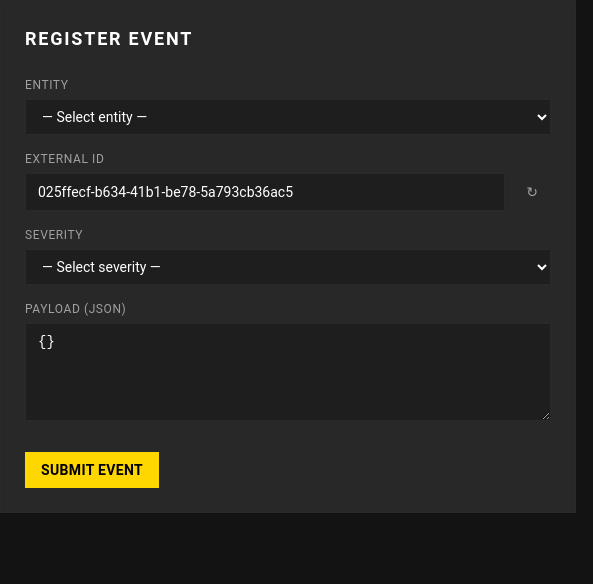
Test: EventForm › shows suspension error on 422 entity_suspended
Select "Death Star" in the dropdown labelled "Entity" at (288, 117), box [25,99,551,135]
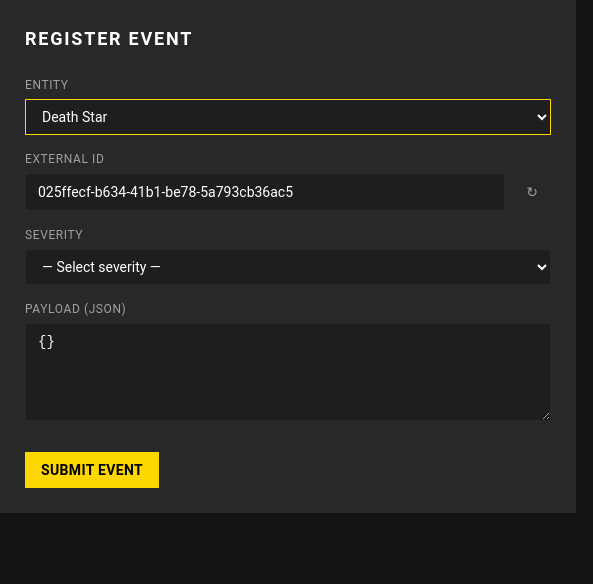
Type "ext-test-1" into the field with placeholder "Unique event identifier".
click(265, 192); type("ext-test-1")  # box [25,173,505,211]
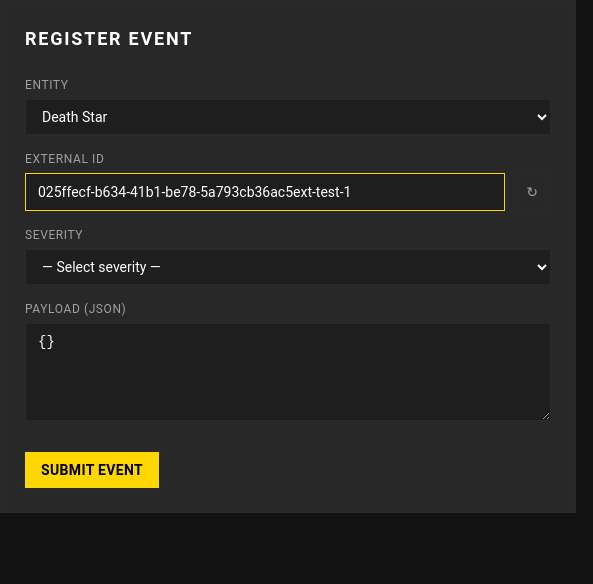
Select "Critical" in the dropdown labelled "Severity" at (288, 267), box [25,249,551,285]
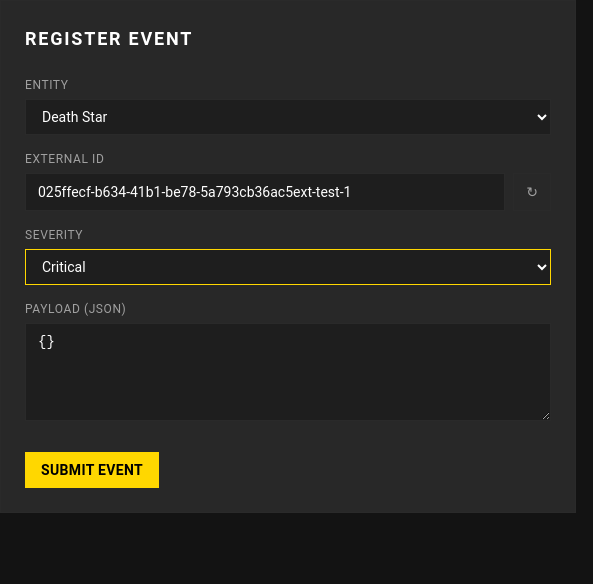
Click the button "Submit Event".
click(92, 470)  # box [25,452,159,488]
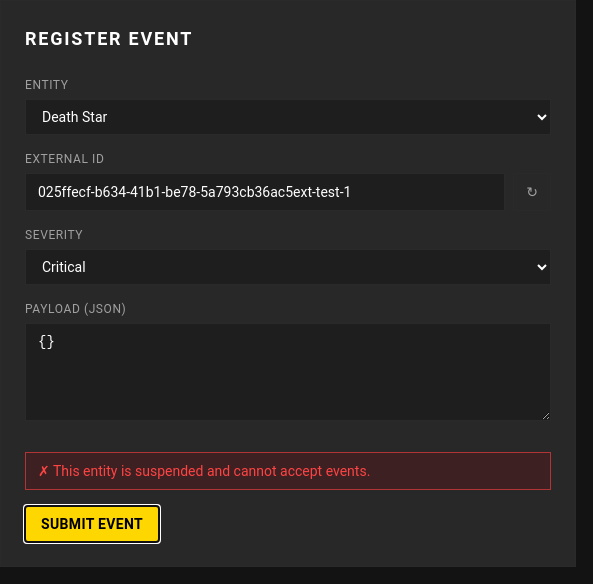
Expected: the text "✗ This entity is suspended and cannot accept events." is shown, [25,452,551,490]
